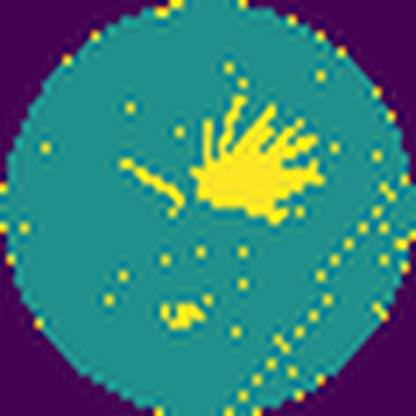Loc: (192, 93, 327, 225), (160, 296, 206, 330)
